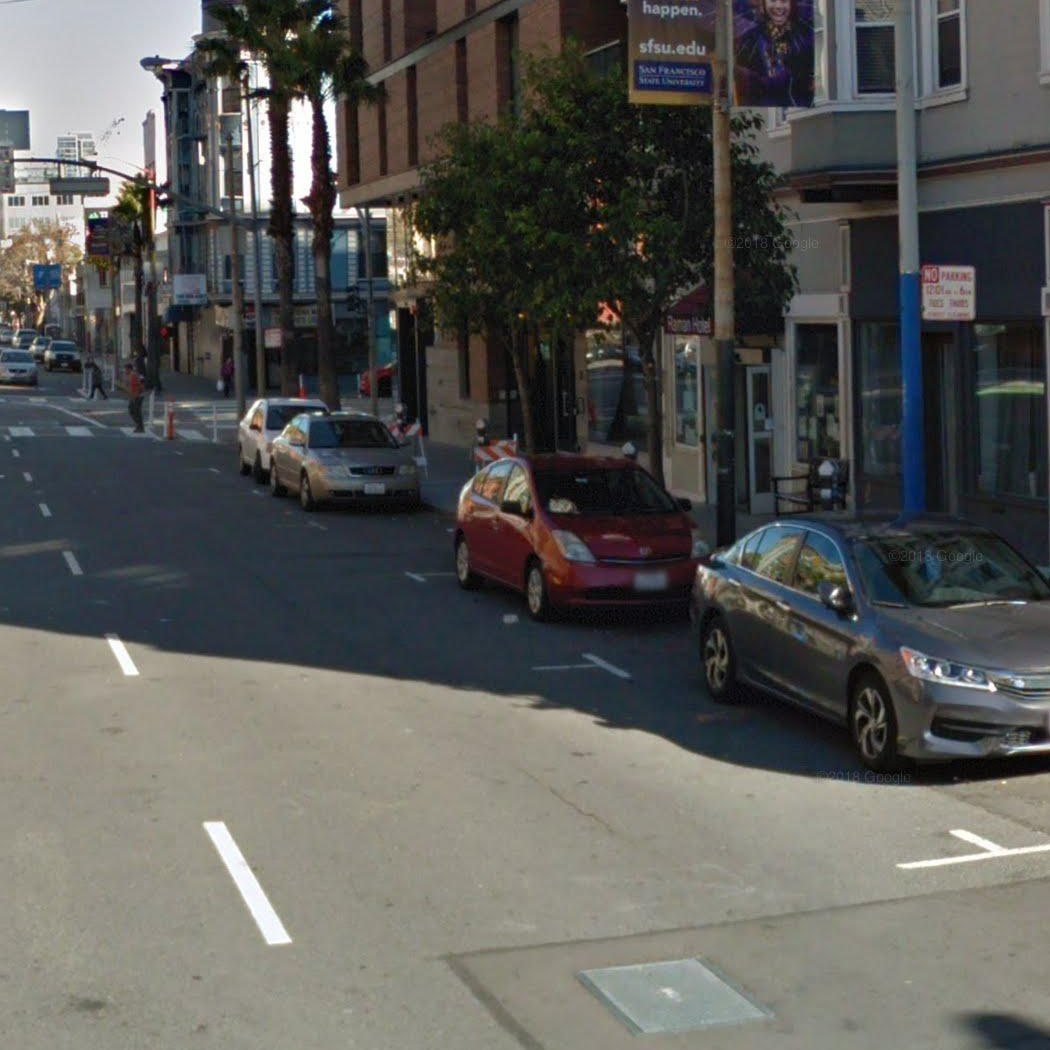No Parking: (921, 264, 977, 322)
